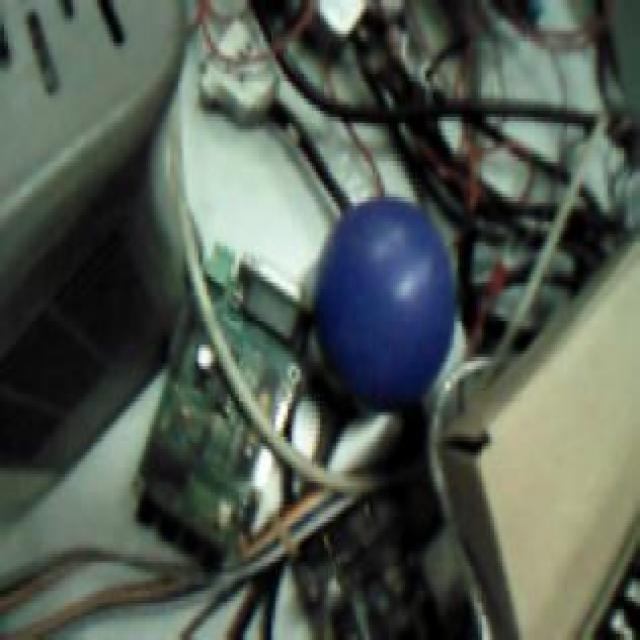BallPurple: (310, 193, 454, 402)
